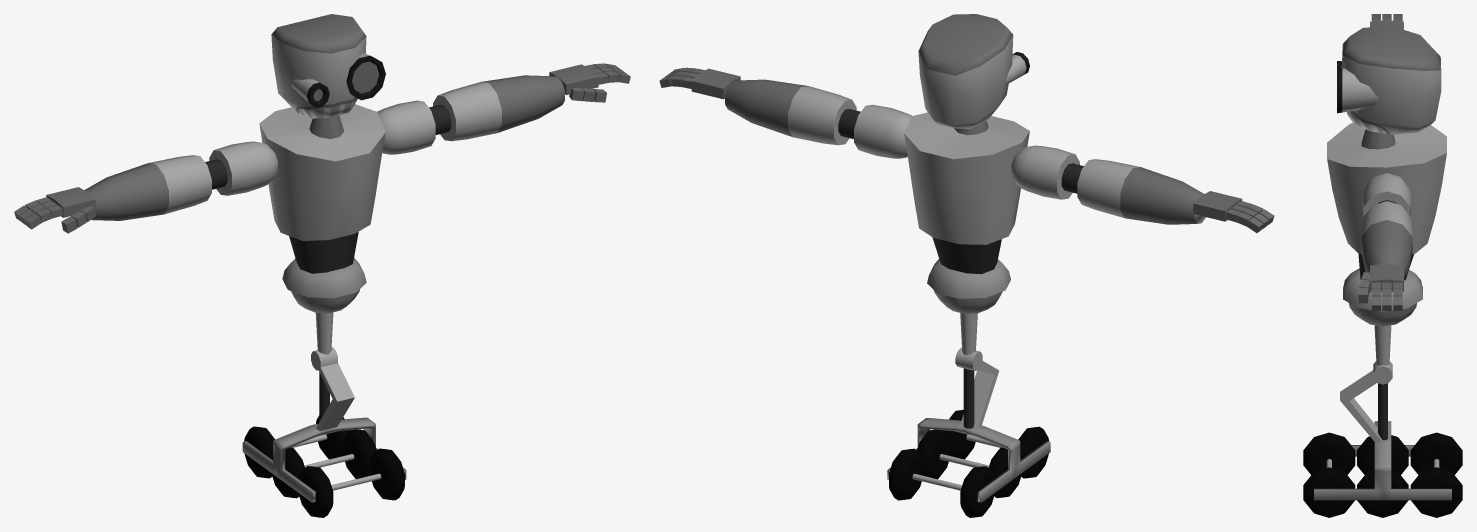
The model's file is Grey_Robot.fbx.
3 views of the same model, side by side, from view 1: azimuth 30°, elevation 25°; view 2: azimuth 150°, elevation 25°; view 3: azimuth 270°, elevation 25° (orthographic).
Visible parts, largest first — view 1: Robot; view 2: Robot; view 3: Robot.
Boxes of the visible parts, left/top/right/bottom form: Robot: left=14, top=14, right=630, bottom=517; Robot: left=659, top=14, right=1274, bottom=517; Robot: left=1303, top=14, right=1462, bottom=517.
Size of the model in its own units: 215 by 158 by 49.59.
